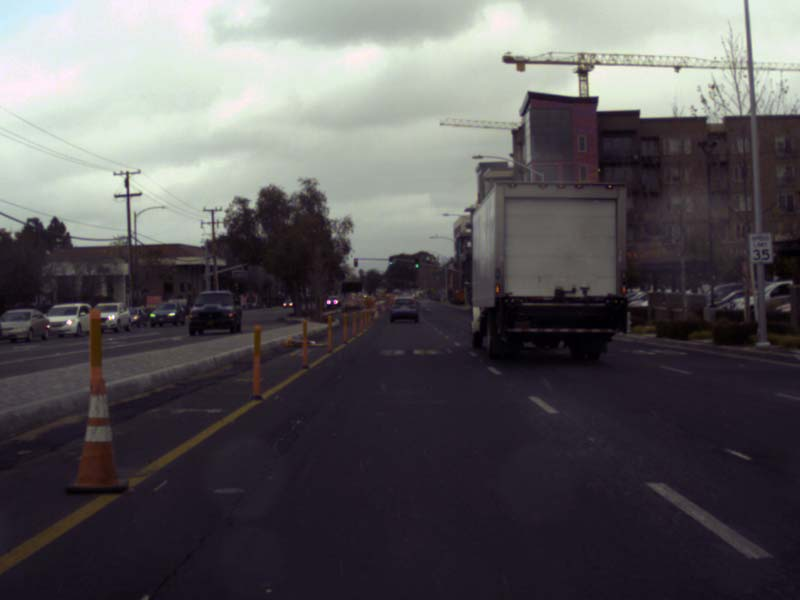Green: (414, 257, 418, 268), (471, 280, 474, 289), (389, 256, 392, 264)
Red: (354, 259, 356, 266)
